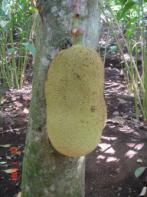jackfruit: (43, 27, 109, 158)
